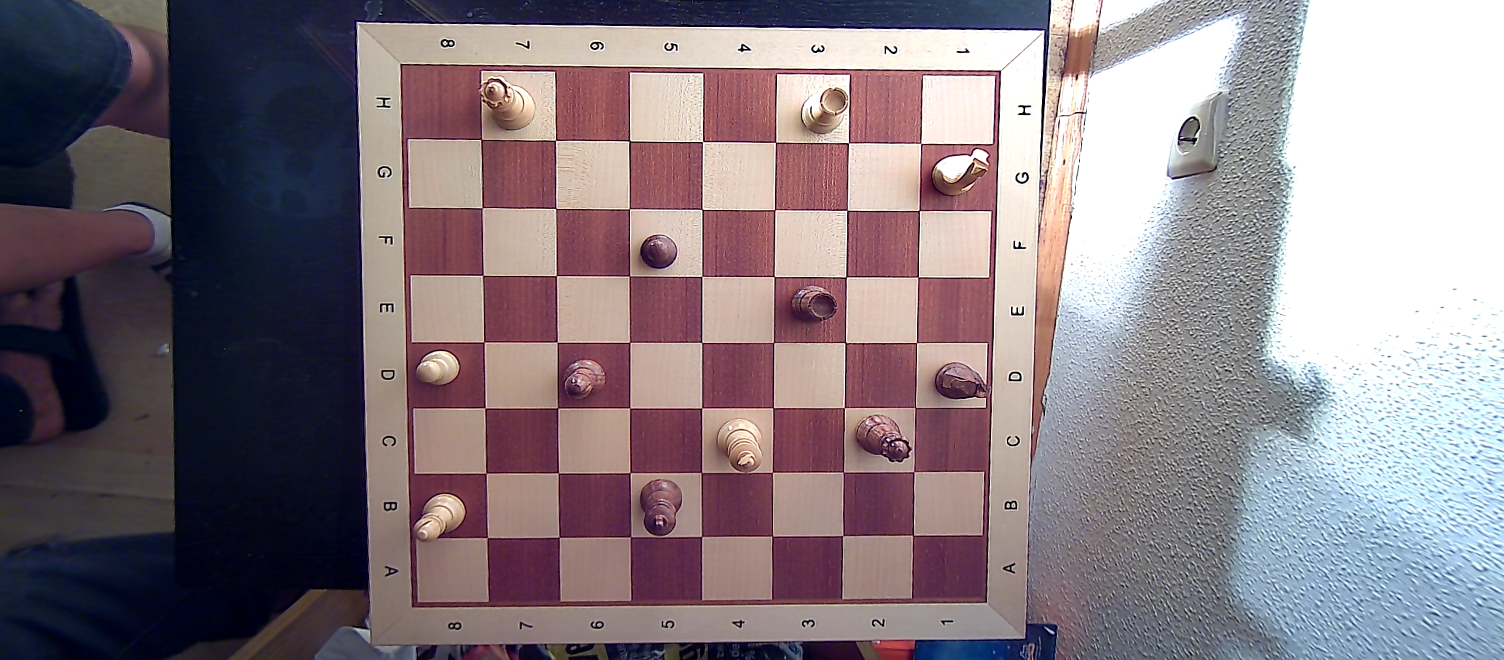black-bishop: (557, 354, 608, 401)
black-king: (638, 476, 689, 535)
black-knight: (932, 357, 992, 407)
black-pawn: (638, 229, 683, 274)
black-queen: (856, 411, 912, 466)
black-rook: (787, 280, 840, 328)
white-bishop: (411, 491, 466, 544)
white-king: (711, 414, 768, 476)
white-knight: (927, 147, 991, 197)
white-pawn: (412, 347, 461, 392)
white-queen: (477, 76, 535, 130)
white-rook: (796, 83, 850, 137)
